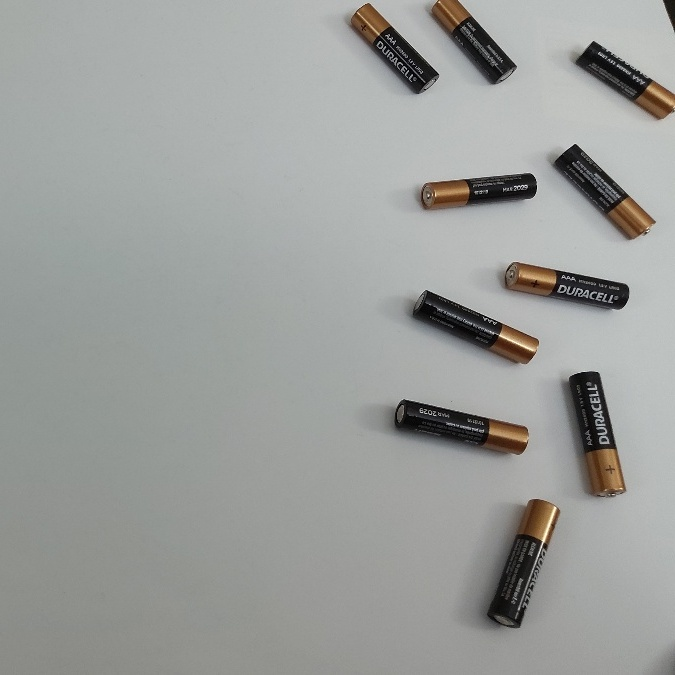battery: (484, 496, 560, 633), (405, 284, 535, 364), (558, 142, 655, 243), (341, 1, 438, 98), (390, 393, 529, 455), (565, 370, 627, 502), (500, 256, 631, 312), (432, 1, 516, 84), (413, 170, 541, 212)
